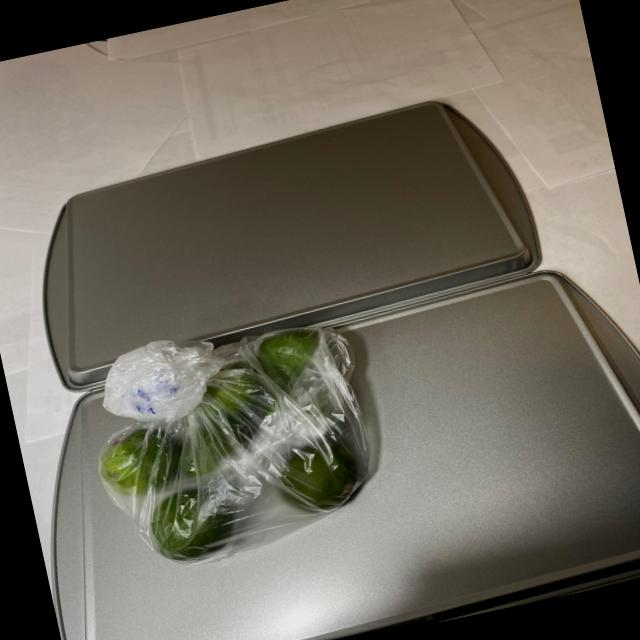lemon: (82, 312, 396, 572)
